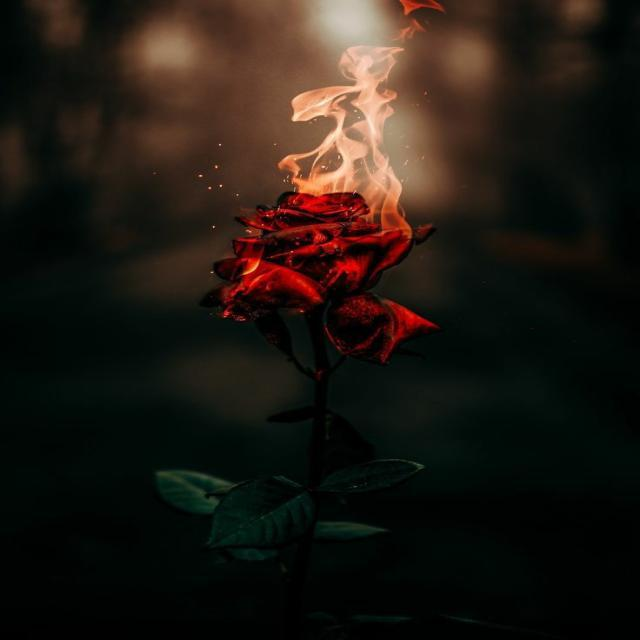Fire: (190, 0, 514, 316)
